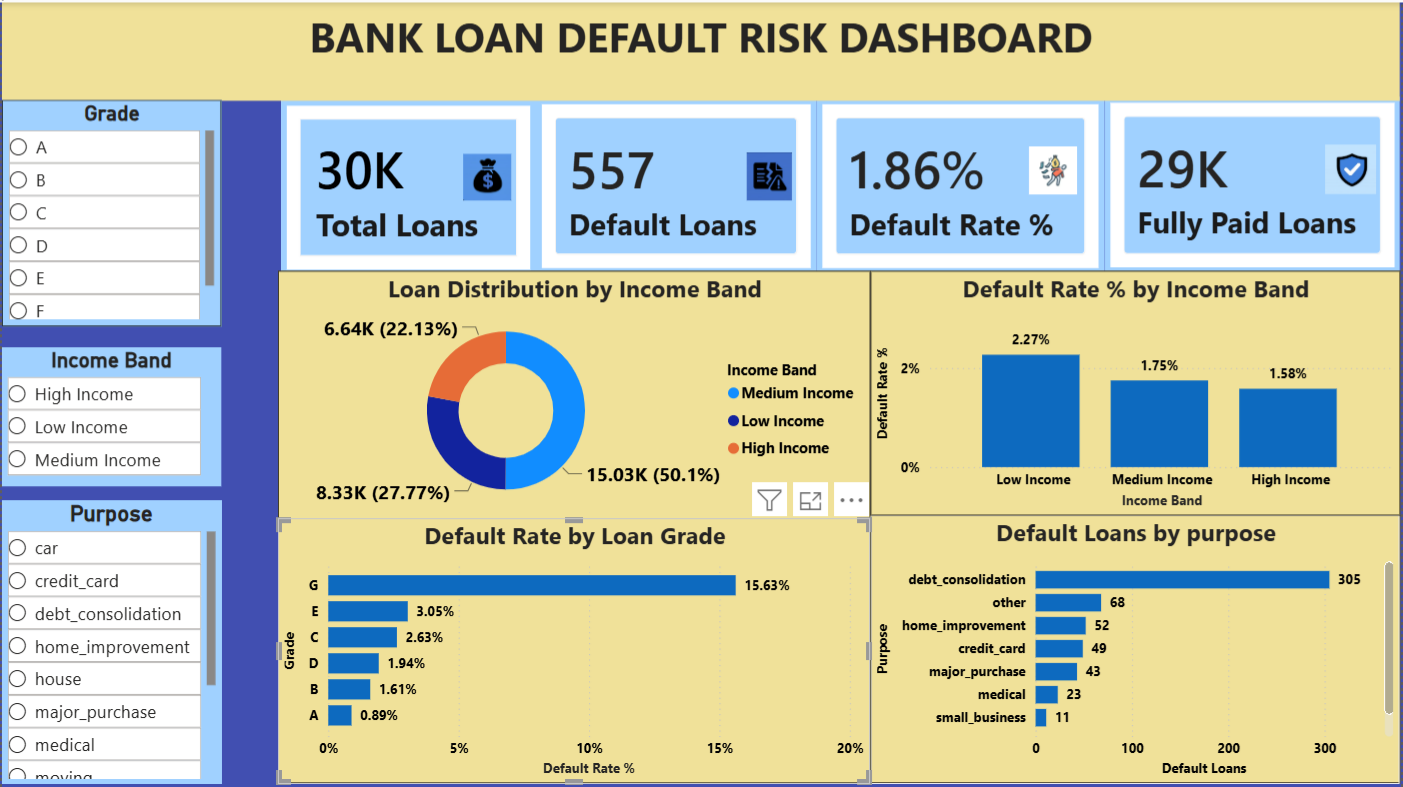

The page's visual inventory and layout, read from the dashboard file:
{"tool":"powerbi","page":{"name":"Page 1","canvas":[1280,720],"ordinal":0},"visuals":[{"type":"cardVisual","fields":{"Data":["cleaned_bank_loan30k.Total Loans"]},"box":[255,88.8,233.8,160],"z":0},{"type":"cardVisual","fields":{"Data":["cleaned_bank_loan30k.Default Loans"]},"box":[488.3,88.3,256.7,160],"z":1000},{"type":"cardVisual","fields":{"Data":["cleaned_bank_loan30k.Default Rate %"]},"box":[745,88.3,263.3,160],"z":2000},{"type":"cardVisual","fields":{"Data":["cleaned_bank_loan30k.Fully Paid Loans"]},"box":[1008.3,86.7,270,161.7],"z":3000},{"type":"textbox","box":[0,0,1278.6,90],"z":4000},{"type":"clusteredBarChart","title":"Default Rate by Loan Grade","fields":{"Category":["cleaned_bank_loan30k.grade"],"Y":["cleaned_bank_loan30k.Default Rate %"]},"box":[252.5,472.1,542.1,242.9],"z":5000},{"type":"donutChart","title":"Loan Distribution by Income Band","fields":{"Category":["cleaned_bank_loan30k.Income Band"],"Y":["cleaned_bank_loan30k.Total Loans"]},"box":[252.9,245.3,542.1,227.1],"z":6000},{"type":"clusteredBarChart","fields":{"Y":["cleaned_bank_loan30k.Default Loans"],"Category":["cleaned_bank_loan30k.purpose"]},"box":[794.6,469.3,484.4,245.6],"z":7000},{"type":"listSlicer","title":"Grade","fields":{"Values":["cleaned_bank_loan30k.grade"]},"box":[0,89.2,200.4,207.2],"z":8000},{"type":"listSlicer","fields":{"Values":["cleaned_bank_loan30k.Income Band"]},"box":[0,315.6,200.4,127.6],"z":9000},{"type":"listSlicer","title":"Purpose","fields":{"Values":["cleaned_bank_loan30k.purpose"]},"box":[0,455.6,200.4,259.4],"z":10000},{"type":"clusteredColumnChart","fields":{"Category":["cleaned_bank_loan30k.Income Band"],"Y":["cleaned_bank_loan30k.Default Rate %"]},"box":[794.6,245.6,484.4,223.7],"z":11000},{"type":"image","box":[609.3,137.2,185.3,43.9],"z":12000},{"type":"image","box":[371.9,138.6,144.1,42.5],"z":13000},{"type":"image","box":[1210.4,119.4,46.7,67.2],"z":14000},{"type":"image","box":[897.5,131.7,127.6,43.9],"z":15000}]}

Visuals, with their boxes in screenshot pixels (x1, y1, x2, y2), scaled from the page's 1280x720 canvas onto the 1403x787 screenshot:
cardVisual - cleaned_bank_loan30k.Total Loans: <bbox>280, 97, 536, 272</bbox>
cardVisual - cleaned_bank_loan30k.Default Loans: <bbox>535, 97, 817, 271</bbox>
cardVisual - cleaned_bank_loan30k.Default Rate %: <bbox>817, 97, 1105, 271</bbox>
cardVisual - cleaned_bank_loan30k.Fully Paid Loans: <bbox>1105, 95, 1401, 272</bbox>
textbox: <bbox>0, 0, 1401, 98</bbox>
"Default Rate by Loan Grade" clusteredBarChart: <bbox>277, 516, 871, 782</bbox>
"Loan Distribution by Income Band" donutChart: <bbox>277, 268, 871, 516</bbox>
clusteredBarChart - cleaned_bank_loan30k.Default Loans x cleaned_bank_loan30k.purpose: <bbox>871, 513, 1402, 781</bbox>
"Grade" listSlicer: <bbox>0, 98, 220, 324</bbox>
listSlicer - cleaned_bank_loan30k.Income Band: <bbox>0, 345, 220, 484</bbox>
"Purpose" listSlicer: <bbox>0, 498, 220, 782</bbox>
clusteredColumnChart - cleaned_bank_loan30k.Income Band x cleaned_bank_loan30k.Default Rate %: <bbox>871, 268, 1402, 513</bbox>
image: <bbox>668, 150, 871, 198</bbox>
image: <bbox>408, 151, 566, 198</bbox>
image: <bbox>1327, 131, 1378, 204</bbox>
image: <bbox>984, 144, 1124, 192</bbox>
